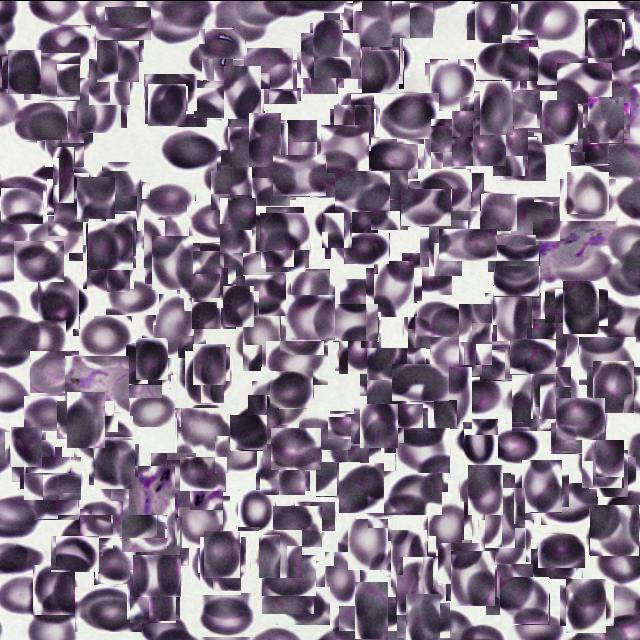red blood cell: (88, 166, 146, 226), (75, 586, 142, 631), (147, 298, 200, 352), (266, 340, 329, 385), (188, 271, 241, 324), (301, 32, 361, 78), (579, 336, 636, 384), (24, 52, 81, 100), (380, 92, 439, 138), (33, 278, 85, 330), (175, 492, 227, 544), (176, 405, 228, 457), (435, 174, 487, 226), (205, 153, 258, 204), (74, 415, 134, 460), (194, 80, 265, 118), (363, 136, 425, 178), (324, 416, 376, 466), (384, 470, 442, 514), (24, 456, 82, 500), (29, 215, 84, 261), (343, 515, 393, 565), (196, 540, 246, 590), (258, 442, 308, 492), (74, 80, 124, 130), (480, 492, 530, 542), (128, 570, 178, 620), (448, 552, 498, 602), (428, 372, 478, 422), (590, 504, 640, 554), (199, 592, 255, 636), (180, 242, 243, 281), (425, 503, 474, 553), (484, 564, 534, 613), (142, 217, 192, 266), (136, 520, 185, 570), (347, 588, 396, 638), (476, 472, 528, 519), (262, 568, 315, 614), (396, 427, 450, 472), (508, 378, 557, 427), (500, 576, 550, 624), (541, 482, 598, 524), (159, 132, 221, 170), (238, 316, 286, 365), (428, 60, 476, 109), (564, 174, 612, 223), (366, 174, 414, 223), (391, 560, 438, 610), (252, 380, 305, 424), (310, 157, 368, 197), (562, 580, 610, 628), (488, 288, 536, 336), (482, 516, 530, 564), (41, 114, 89, 162), (328, 213, 376, 261), (370, 264, 418, 312), (286, 292, 334, 340), (148, 238, 196, 286), (321, 124, 369, 172), (349, 0, 398, 47), (234, 274, 290, 315), (551, 410, 605, 452), (262, 552, 316, 594), (273, 154, 327, 196), (151, 1, 205, 43), (385, 534, 432, 582), (518, 462, 565, 510), (85, 242, 132, 290), (364, 351, 412, 398), (86, 221, 134, 268), (452, 309, 499, 357), (78, 315, 133, 356), (557, 62, 612, 103), (339, 462, 384, 512), (24, 395, 88, 430), (181, 354, 228, 401), (590, 363, 637, 410), (528, 368, 574, 416), (482, 88, 540, 126), (321, 303, 379, 341), (335, 170, 390, 210), (271, 427, 322, 470), (392, 363, 449, 401), (274, 122, 320, 169), (30, 566, 77, 612), (62, 396, 109, 442), (223, 144, 270, 190), (511, 196, 560, 240), (556, 397, 606, 440), (531, 538, 584, 578), (430, 336, 483, 376), (195, 34, 241, 80), (134, 552, 180, 598), (258, 530, 304, 576), (220, 68, 266, 114), (214, 202, 260, 248), (402, 252, 452, 294), (36, 24, 91, 62), (518, 99, 574, 136), (121, 347, 166, 393), (580, 440, 625, 486), (418, 168, 471, 207), (96, 18, 144, 61), (30, 350, 79, 392), (276, 586, 330, 624), (324, 12, 378, 50), (476, 42, 530, 80), (14, 240, 64, 281), (242, 47, 292, 88), (356, 478, 407, 518), (58, 514, 113, 551), (571, 290, 623, 329), (559, 284, 604, 329), (320, 556, 366, 600), (480, 344, 536, 380), (501, 54, 557, 90), (487, 425, 540, 463), (395, 453, 448, 491), (15, 102, 68, 140), (273, 505, 322, 546), (237, 249, 287, 289), (584, 8, 634, 48), (142, 181, 196, 218), (528, 322, 572, 367), (92, 441, 136, 486), (379, 2, 434, 38), (248, 158, 293, 202), (452, 377, 504, 415), (187, 200, 239, 238), (96, 6, 154, 40), (144, 73, 197, 110), (401, 188, 452, 226), (382, 405, 426, 449), (288, 270, 332, 314), (446, 116, 490, 160), (164, 80, 208, 124), (357, 401, 401, 445), (88, 60, 132, 104), (262, 209, 306, 253), (178, 252, 222, 296), (243, 116, 287, 160), (475, 85, 519, 129), (500, 138, 546, 180), (340, 278, 387, 319), (106, 278, 159, 314), (263, 226, 307, 269), (471, 0, 515, 43), (28, 588, 82, 623), (233, 214, 284, 251), (439, 228, 497, 260), (427, 122, 470, 165), (464, 468, 507, 511), (364, 36, 406, 80), (424, 228, 468, 270), (402, 598, 446, 640), (537, 48, 588, 84), (51, 535, 100, 572), (359, 48, 402, 90), (299, 416, 352, 450), (19, 319, 66, 357), (488, 234, 536, 271), (336, 330, 378, 372), (225, 113, 267, 155), (406, 304, 448, 346), (96, 212, 138, 254), (438, 542, 480, 584), (16, 442, 58, 484), (585, 99, 627, 141), (332, 106, 374, 148), (498, 36, 540, 78), (96, 40, 138, 82), (201, 533, 243, 575), (151, 452, 197, 490), (122, 514, 168, 552), (215, 435, 262, 472), (545, 286, 593, 322), (388, 349, 429, 391), (51, 175, 92, 217), (490, 130, 531, 172), (94, 544, 137, 584), (510, 338, 557, 374), (417, 300, 464, 336), (258, 61, 299, 102), (300, 49, 341, 90), (539, 101, 580, 142), (470, 120, 510, 162), (270, 370, 314, 408), (496, 244, 540, 282), (460, 421, 500, 462), (80, 500, 124, 537), (316, 461, 361, 497), (34, 483, 79, 519), (282, 501, 336, 531), (180, 456, 226, 491), (592, 452, 632, 492), (336, 94, 376, 134), (244, 398, 284, 438), (146, 84, 186, 124), (76, 177, 116, 217), (130, 392, 177, 426), (538, 533, 585, 567), (236, 489, 276, 528), (44, 154, 84, 193), (5, 52, 44, 91), (1, 187, 43, 223), (344, 232, 390, 264), (494, 264, 540, 296), (199, 28, 246, 59), (570, 126, 608, 164), (190, 344, 228, 382), (132, 339, 170, 377), (480, 192, 518, 230), (586, 19, 624, 56), (318, 205, 356, 242), (230, 414, 268, 450), (7, 428, 44, 464), (220, 288, 256, 324), (312, 20, 346, 54)
trophozoite: (120, 473, 184, 537), (65, 355, 129, 411), (533, 218, 584, 280), (562, 213, 614, 269)
